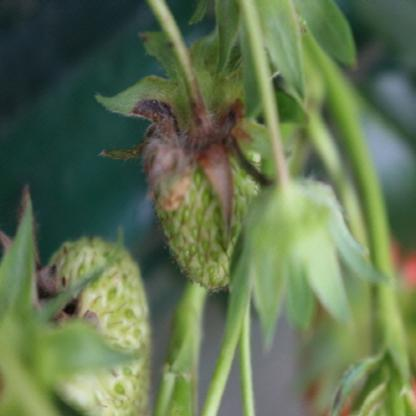Strawberry_Gray_Mold: (98, 91, 275, 249), (0, 186, 100, 338)
